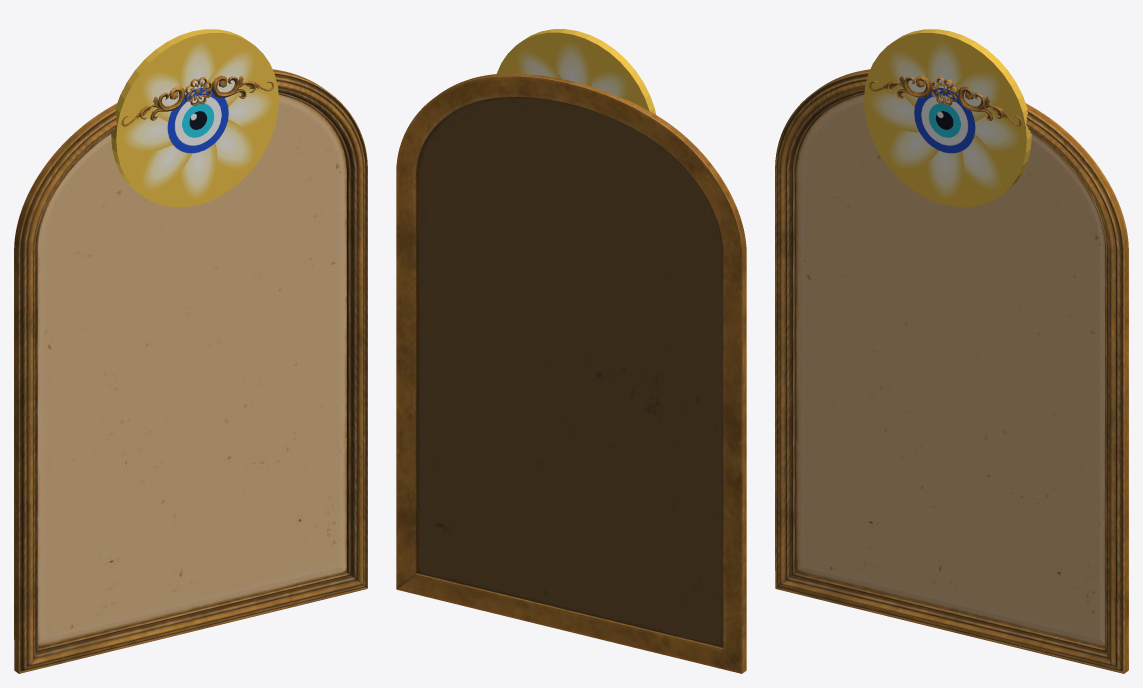
File: nyb_bramford_mirror.glb
The picture shows the model from 3 angles, left to right: view 1: azimuth 30°, elevation 25°; view 2: azimuth 150°, elevation 25°; view 3: azimuth 330°, elevation 25°; orthographic projection.
Visible parts, largest first — view 1: ornate_mirror_01, add_eyeflower_gold.png, Cylinder; view 2: ornate_mirror_01, Cylinder, add_eyeflower_gold.png; view 3: ornate_mirror_01, add_eyeflower_gold.png, Cylinder.
Boxes of the visible parts, x1,y1,x2,y2 form: ornate_mirror_01: [14, 69, 367, 673]; add_eyeflower_gold.png: [122, 40, 274, 200]; Cylinder: [111, 29, 278, 207]; ornate_mirror_01: [396, 73, 746, 673]; Cylinder: [496, 29, 655, 114]; add_eyeflower_gold.png: [515, 40, 629, 99]; ornate_mirror_01: [775, 69, 1128, 673]; add_eyeflower_gold.png: [868, 40, 1021, 200]; Cylinder: [864, 29, 1031, 207].
Size of the model in its own units: 0.4865 by 0.7979 by 0.026.
Materials: 3 (2 with a texture image).
